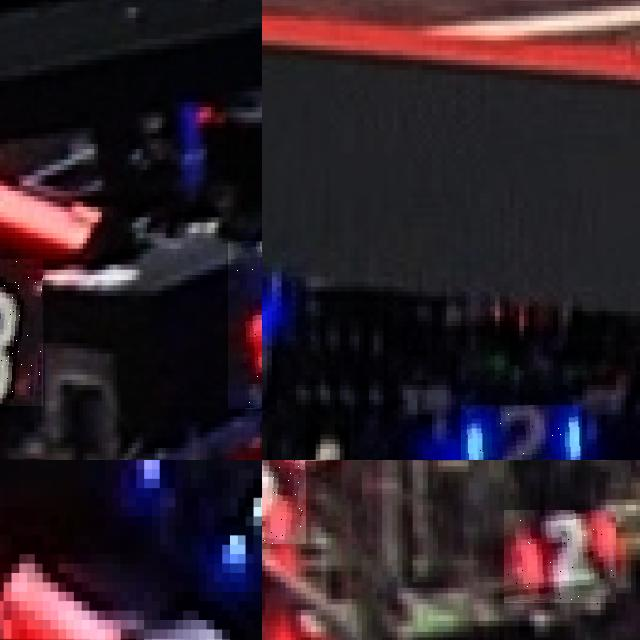B2: (461, 404, 582, 460)
R2: (504, 510, 616, 604), (262, 460, 306, 543)
R3: (0, 259, 43, 406), (228, 241, 262, 409)
